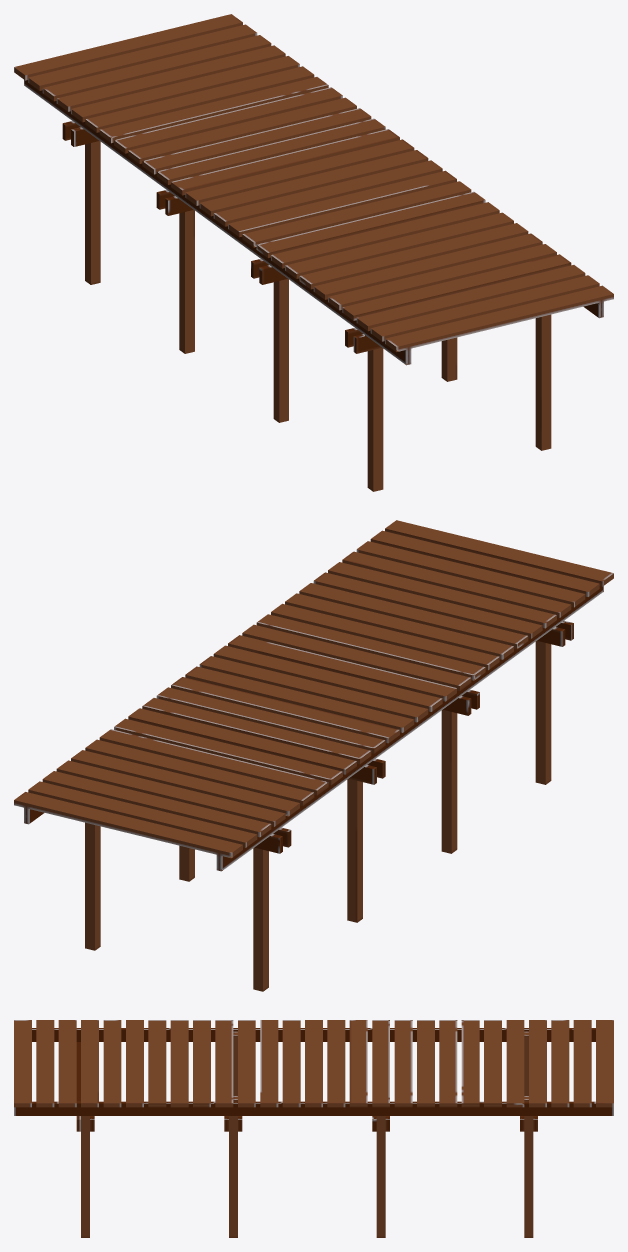
File: Trapiche.fbx
3 renders of one model, top to bottom at view 1: azimuth 30°, elevation 25°; view 2: azimuth 150°, elevation 25°; view 3: azimuth 270°, elevation 25°, orthographic. The views are drawn at different scales.
Visible parts, largest first — view 1: Trapiches-4; view 2: Trapiches-4; view 3: Trapiches-4.
Part boxes in pixels (bbox=[...]): Trapiches-4: bbox=[14, 14, 613, 491]; Trapiches-4: bbox=[14, 520, 613, 991]; Trapiches-4: bbox=[14, 1020, 613, 1237].
Size of the model in its own units: 440 by 350 by 1340.
1 material, 1 textured.
